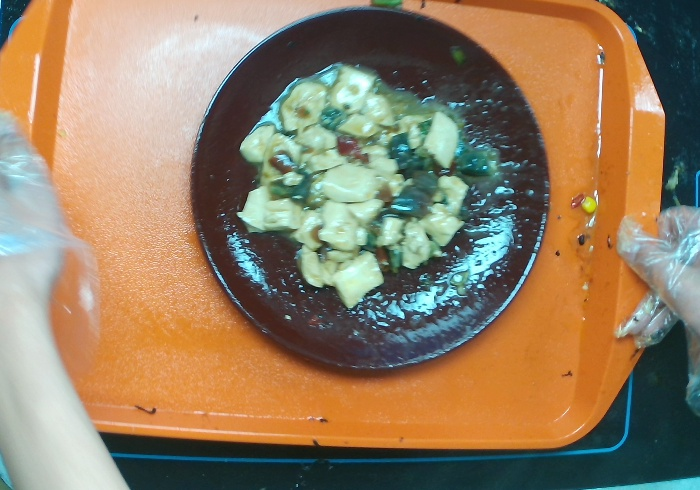HZYJPL-Ka_Fei_Yuan_Pan: (184, 1, 556, 376)
